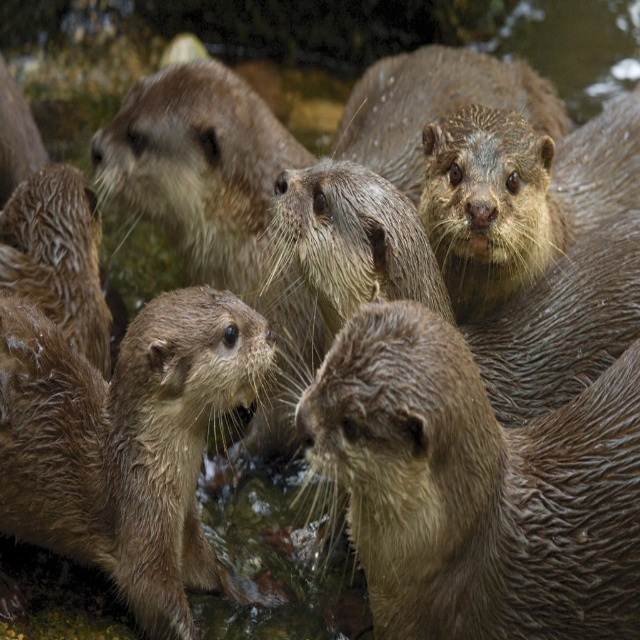Otter: (0, 43, 640, 640)
